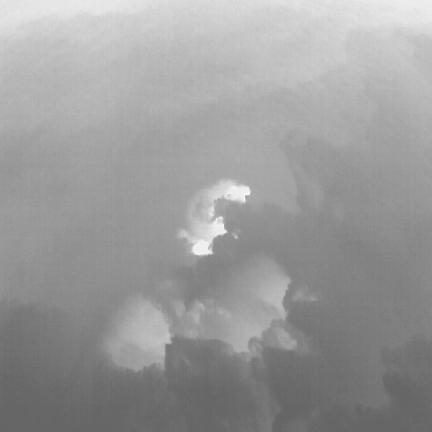flukeprints: (223, 184, 250, 202), (211, 217, 226, 238), (192, 239, 211, 255)
